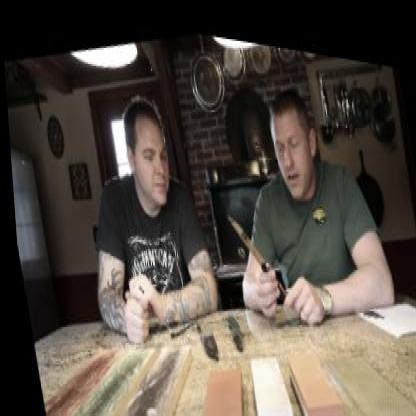knife: (216, 183, 278, 302)
